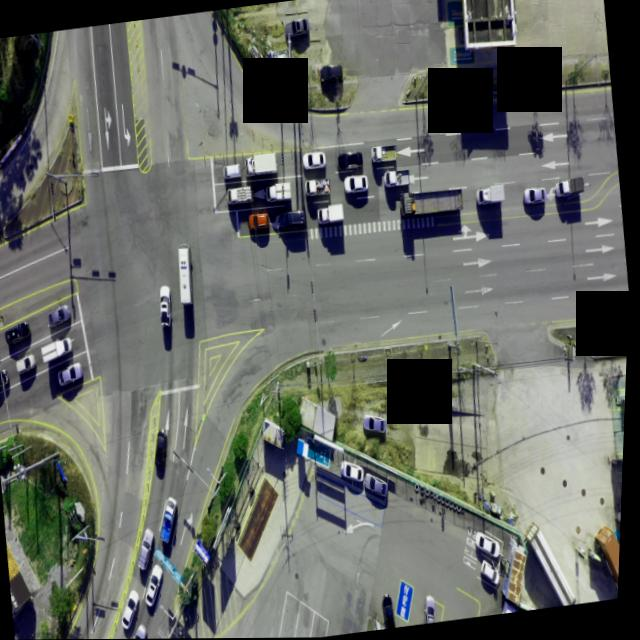car: (144, 561, 170, 606), (138, 525, 163, 571), (121, 588, 146, 629), (155, 429, 175, 469), (480, 530, 505, 560), (482, 558, 506, 588), (275, 208, 306, 231), (58, 362, 85, 388), (365, 472, 391, 499), (159, 285, 176, 326), (343, 457, 369, 482), (6, 321, 34, 344), (47, 304, 74, 327), (283, 15, 312, 36), (363, 412, 388, 435), (318, 61, 343, 83), (383, 598, 400, 629), (343, 173, 368, 194), (302, 152, 327, 172), (522, 185, 547, 204), (426, 595, 442, 624), (340, 151, 363, 171), (127, 622, 153, 639), (17, 353, 39, 373), (248, 212, 271, 230), (223, 164, 243, 181), (0, 372, 12, 394)
medium_truck: (529, 521, 584, 610), (404, 189, 465, 218), (246, 150, 279, 176)
small_bus: (177, 246, 199, 308)
small_truck: (160, 495, 187, 545), (41, 335, 77, 363), (555, 175, 587, 199), (475, 183, 506, 206), (318, 203, 347, 226), (264, 180, 293, 202), (384, 166, 414, 187), (227, 183, 255, 205), (369, 144, 398, 165), (303, 175, 331, 196)
